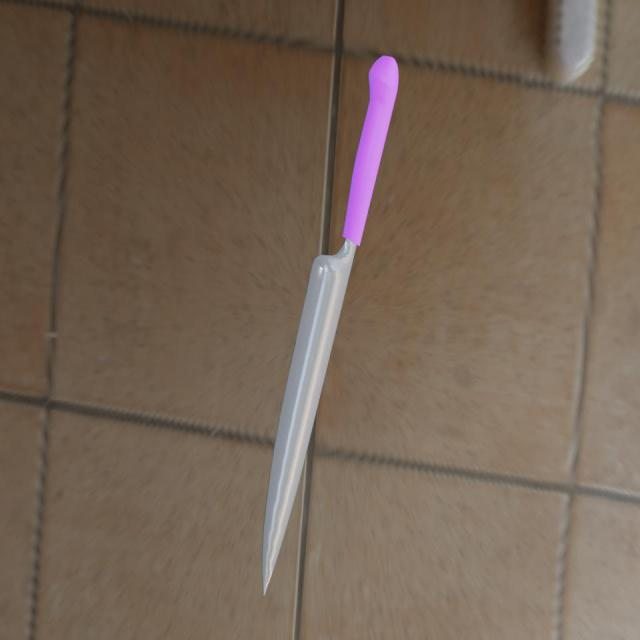knife: (343, 54, 400, 245)
